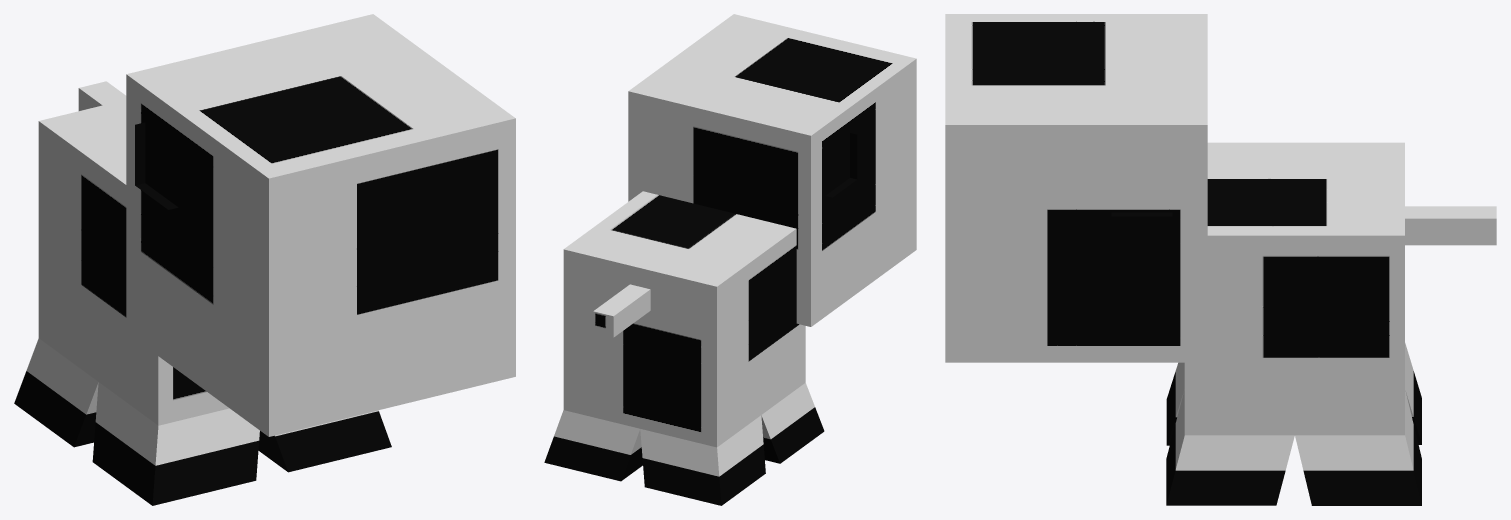
The model's file is Cow.fbx.
3 views of the same model, side by side, from view 1: azimuth 30°, elevation 25°; view 2: azimuth 150°, elevation 25°; view 3: azimuth 270°, elevation 25° (orthographic). The views are drawn at different scales.
Visible parts, largest first — view 1: Cube.001; view 2: Cube.001; view 3: Cube.001.
Part boxes in pixels (bbox=[...]): Cube.001: bbox=[14, 14, 515, 505]; Cube.001: bbox=[544, 14, 916, 505]; Cube.001: bbox=[945, 14, 1496, 505].
Size of the model in its own units: 1.57 by 3.04 by 2.33.
